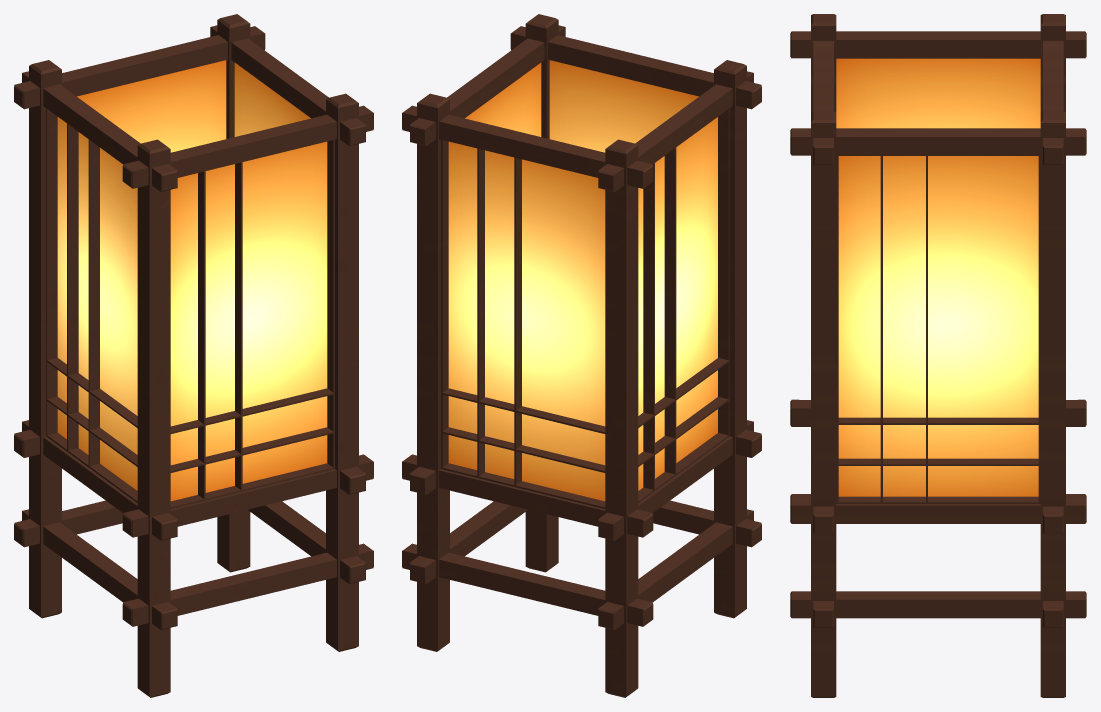
The model's file is NNJ0310010.fbx.
The picture shows the model from 3 angles, left to right: view 1: azimuth 30°, elevation 25°; view 2: azimuth 150°, elevation 25°; view 3: azimuth 270°, elevation 25°; orthographic projection. The views are drawn at different scales.
Visible parts, largest first — view 1: smNNJ0310010; view 2: smNNJ0310010; view 3: smNNJ0310010.
Boxes of the visible parts, x1,y1,x2,y2 form: smNNJ0310010: [14, 14, 373, 697]; smNNJ0310010: [402, 14, 761, 697]; smNNJ0310010: [790, 14, 1086, 697].
Size of the model in its own units: 66.94 by 144 by 66.94.
1 material, 1 textured.
